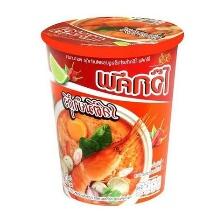paper_cup: (37, 11, 189, 211)
